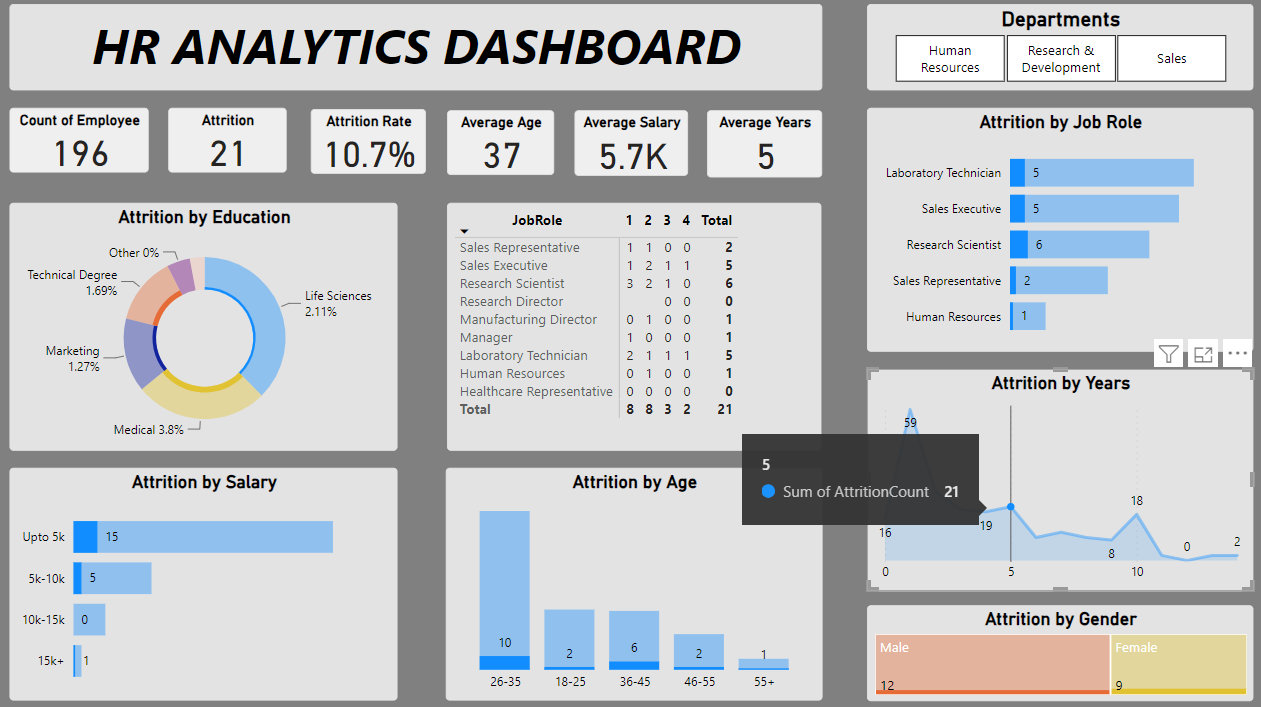

Layout of this report page (visuals, bound fields, positions):
{"tool":"powerbi","page":{"name":"Page 1","canvas":[1280,720],"ordinal":0},"visuals":[{"type":"card","title":"Count of Employee","fields":{"Values":["CountNonNull(HR_Analytics.EmpID)"]},"box":[17,113.8,139.4,64.9],"z":0},{"type":"card","title":"Attrition","fields":{"Values":["Sum(HR_Analytics.AttritionCount)"]},"box":[176.6,113.8,118.1,64.9],"z":1000},{"type":"card","title":"Attrition Rate","fields":{"Values":["HR_Analytics.AttritionRate"]},"box":[319.1,114.9,114.9,64.9],"z":2000},{"type":"card","title":"Average Age ","fields":{"Values":["Avg(HR_Analytics.Age)"]},"box":[455.3,116,107.4,64.9],"z":3000},{"type":"card","title":"Average Salary","fields":{"Values":["Avg(HR_Analytics.MonthlyIncome)"]},"box":[583,116,113.8,66],"z":4000},{"type":"card","title":"Average Years ","fields":{"Values":["Avg(HR_Analytics.YearsAtCompany)"]},"box":[714.9,116,114.9,67],"z":5000},{"type":"donutChart","title":"Attrition by Education","fields":{"Category":["HR_Analytics.EducationField"],"Y":["Sum(HR_Analytics.AttritionCount)"]},"box":[17,208.5,388.3,247.9],"z":6000},{"type":"columnChart","title":"Attrition by Age","fields":{"Category":["HR_Analytics.AgeGroup"],"Y":["Sum(HR_Analytics.AttritionCount)"]},"box":[453.2,473.4,376.6,233],"z":7000},{"type":"pivotTable","fields":{"Rows":["HR_Analytics.JobRole"],"Columns":["HR_Analytics.JobSatisfaction"],"Values":["Sum(HR_Analytics.AttritionCount)"]},"box":[455.3,208.5,374.5,247.9],"z":8000},{"type":"barChart","title":"Attrition by Salary","fields":{"Category":["HR_Analytics.SalarySlab"],"Y":["Sum(HR_Analytics.AttritionCount)"]},"box":[17,473.4,388.3,233],"z":9000},{"type":"barChart","title":"Attrition by Job Role","fields":{"Category":["HR_Analytics.JobRole"],"Y":["Sum(HR_Analytics.AttritionCount)"]},"box":[875.5,113.8,386.2,243.6],"z":10000},{"type":"areaChart","title":"Attrition by Years","fields":{"Category":["HR_Analytics.YearsAtCompany"],"Y":["Sum(HR_Analytics.AttritionCount)"]},"box":[875,375,386.2,222.5],"z":11000},{"type":"treemap","title":"Attrition by Gender","fields":{"Group":["HR_Analytics.Gender"],"Values":["Sum(HR_Analytics.AttritionCount)"]},"box":[875.5,610.6,386.2,95.7],"z":12000},{"type":"slicer","title":"Departments","fields":{"Values":["HR_Analytics.Department"]},"box":[875.5,9.6,386.2,86.2],"z":13000},{"type":"textbox","box":[17,9.6,812.8,86.2],"z":14000}]}

Visuals, with their boxes in screenshot pixels (x1, y1, x2, y2), scaled from the page's 1280x720 canvas onto the 1261x707 screenshot:
"Count of Employee" card: [x1=17, y1=112, x2=154, y2=175]
"Attrition" card: [x1=174, y1=112, x2=290, y2=175]
"Attrition Rate" card: [x1=314, y1=113, x2=428, y2=177]
"Average Age " card: [x1=449, y1=114, x2=554, y2=178]
"Average Salary" card: [x1=574, y1=114, x2=686, y2=179]
"Average Years " card: [x1=704, y1=114, x2=817, y2=180]
"Attrition by Education" donutChart: [x1=17, y1=205, x2=399, y2=448]
"Attrition by Age" columnChart: [x1=446, y1=465, x2=817, y2=694]
pivotTable - HR_Analytics.JobRole x HR_Analytics.JobSatisfaction: [x1=449, y1=205, x2=817, y2=448]
"Attrition by Salary" barChart: [x1=17, y1=465, x2=399, y2=694]
"Attrition by Job Role" barChart: [x1=863, y1=112, x2=1243, y2=351]
"Attrition by Years" areaChart: [x1=862, y1=368, x2=1242, y2=587]
"Attrition by Gender" treemap: [x1=863, y1=600, x2=1243, y2=694]
"Departments" slicer: [x1=863, y1=9, x2=1243, y2=94]
textbox: [x1=17, y1=9, x2=817, y2=94]
